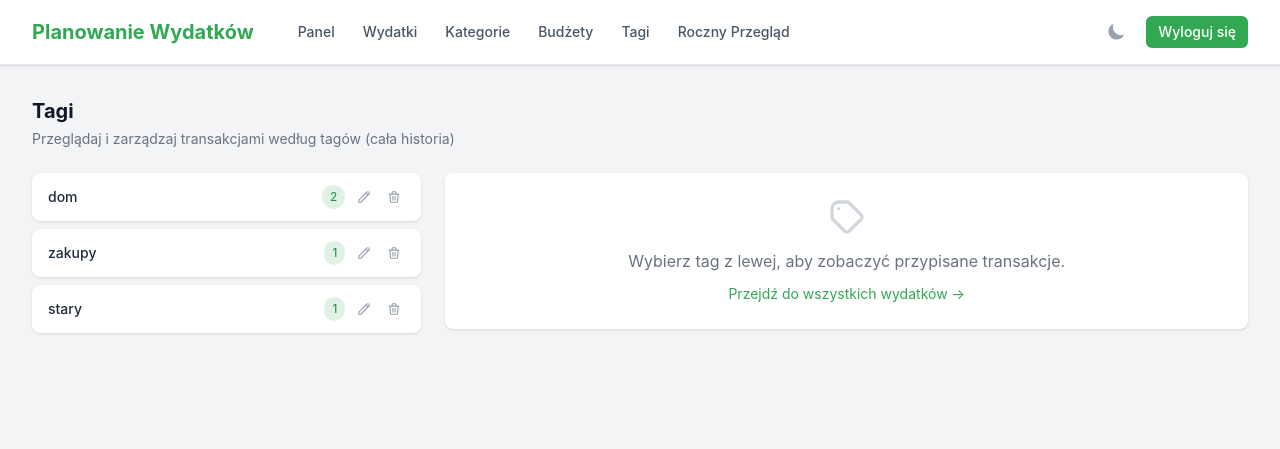
Test: rename › opens an editor prefilled with the current name
Expected: the button "dom" is shown, [48,187,314,207]
Step 1. Click the 1st button named "Zmień nazwę tagu" → click(364, 197), box [353,186,375,208]
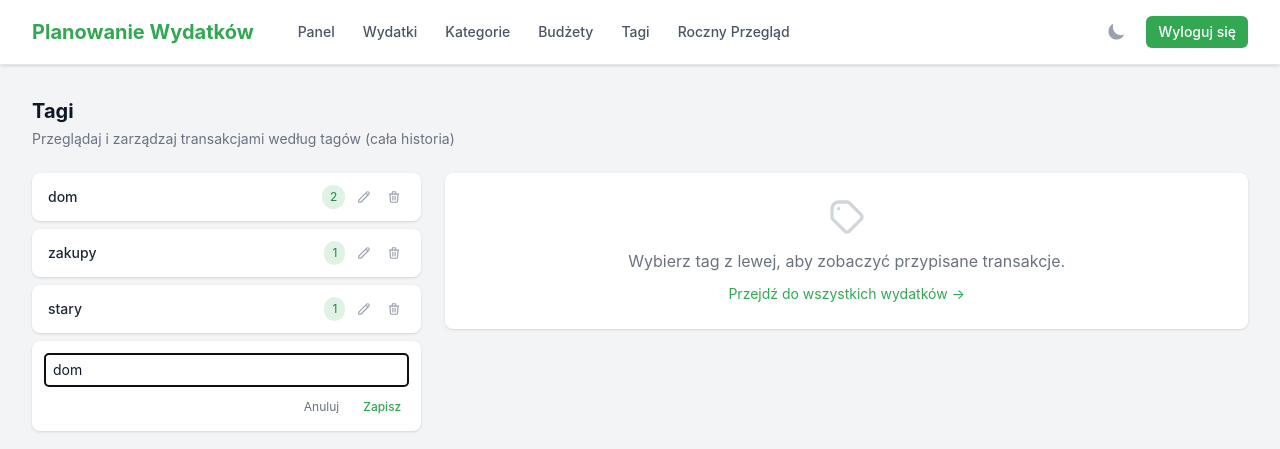
Expected: the field holds "dom", [44,353,409,387]
